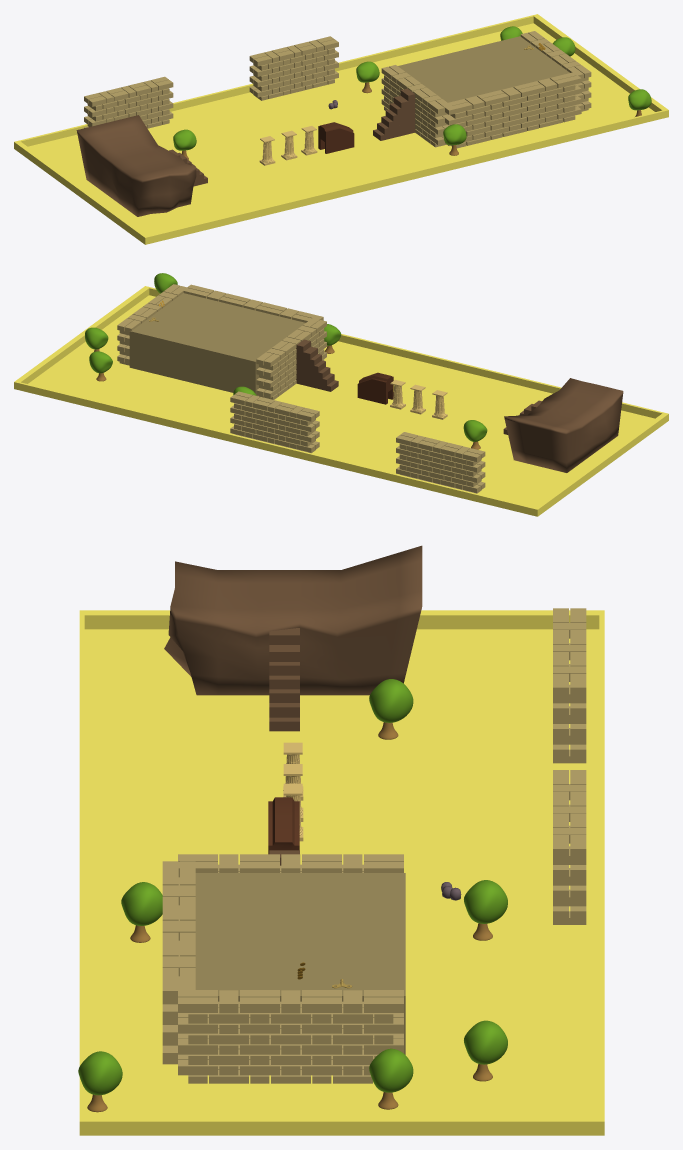
The model's file is escenario3.glb.
The picture shows the model from 3 angles, top to bottom: view 1: azimuth 30°, elevation 25°; view 2: azimuth 150°, elevation 25°; view 3: azimuth 270°, elevation 25°; orthographic projection. The views are drawn at different scales.
Parts seen in each view (by area): view 1: Cube, Cube.001, Cube.002, brick_flemish_bond.002, brick_flemish_bond, brick_flemish_bond.001, brick_flemish_bond.004, Cubo.001, brick_flemish_bond.003, kitbash_A_11.001, Esfera geodésica.003, Esfera geodésica.041 (+2 smaller); view 2: Cube, Cube.002, Cube.001, brick_flemish_bond.001, brick_flemish_bond, brick_flemish_bond.004, brick_flemish_bond.002, Cubo.001, brick_flemish_bond.003, kitbash_A_11.001, Esfera geodésica.020, Esfera geodésica.001 (+1 smaller); view 3: Cube, Cube.001, Cube.002, brick_flemish_bond.003, brick_flemish_bond.002, brick_flemish_bond.001, brick_flemish_bond, brick_flemish_bond.004, Cubo.005, Esfera geodésica.018, Esfera geodésica.001, Esfera geodésica.002 (+4 smaller).
Part boxes in pixels (bbox=[...]): Cube: bbox=[14, 14, 668, 244]; Cube.001: bbox=[76, 115, 196, 216]; Cube.002: bbox=[398, 36, 569, 102]; brick_flemish_bond.002: bbox=[441, 72, 581, 148]; brick_flemish_bond: bbox=[249, 36, 338, 100]; brick_flemish_bond.001: bbox=[84, 76, 173, 128]; brick_flemish_bond.004: bbox=[381, 65, 451, 147]; Cubo.001: bbox=[373, 88, 415, 140]; brick_flemish_bond.003: bbox=[520, 31, 591, 111]; kitbash_A_11.001: bbox=[318, 122, 354, 153]; Esfera geodésica.003: bbox=[443, 124, 466, 155]; Esfera geodésica.041: bbox=[356, 61, 379, 93]; Cube: bbox=[14, 286, 668, 516]; Cube.002: bbox=[129, 293, 305, 396]; Cube.001: bbox=[504, 378, 623, 472]; brick_flemish_bond.001: bbox=[396, 432, 485, 493]; brick_flemish_bond: bbox=[230, 391, 319, 453]; brick_flemish_bond.004: bbox=[256, 318, 326, 399]; brick_flemish_bond.002: bbox=[183, 284, 323, 323]; Cubo.001: bbox=[296, 339, 338, 391]; brick_flemish_bond.003: bbox=[117, 284, 187, 365]; kitbash_A_11.001: bbox=[357, 372, 393, 404]; Esfera geodésica.020: bbox=[89, 351, 112, 381]; Esfera geodésica.001: bbox=[463, 420, 487, 449]; Cube: bbox=[79, 610, 604, 1135]; Cube.001: bbox=[164, 545, 422, 695]; Cube.002: bbox=[195, 873, 405, 1054]; brick_flemish_bond.003: bbox=[178, 990, 403, 1083]; brick_flemish_bond.002: bbox=[162, 861, 195, 1064]; brick_flemish_bond.001: bbox=[553, 608, 586, 763]; brick_flemish_bond: bbox=[553, 770, 586, 924]; brick_flemish_bond.004: bbox=[178, 854, 403, 877]; Cubo.005: bbox=[269, 628, 299, 731]; Esfera geodésica.018: bbox=[369, 1048, 413, 1109]; Esfera geodésica.001: bbox=[369, 679, 413, 739]; Esfera geodésica.002: bbox=[78, 1051, 122, 1112].
Size of the model in its own units: 29.98 by 2.84 by 13.05.
Materials: 36 (6 with a texture image).
